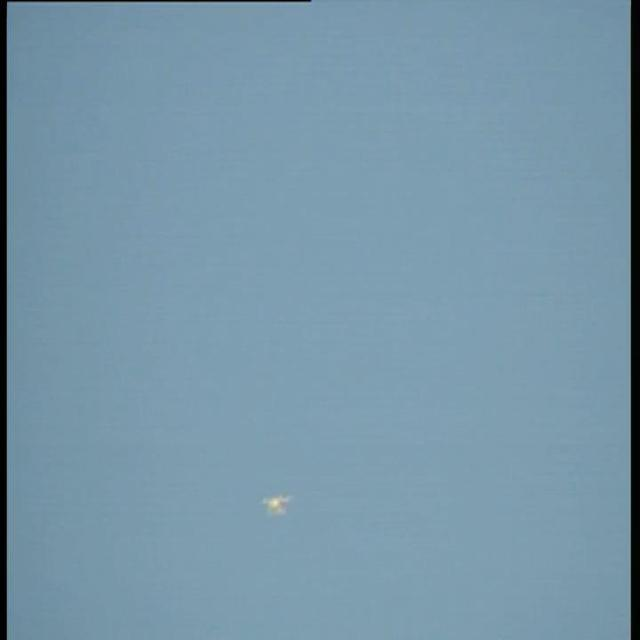drone: (256, 488, 294, 524)
